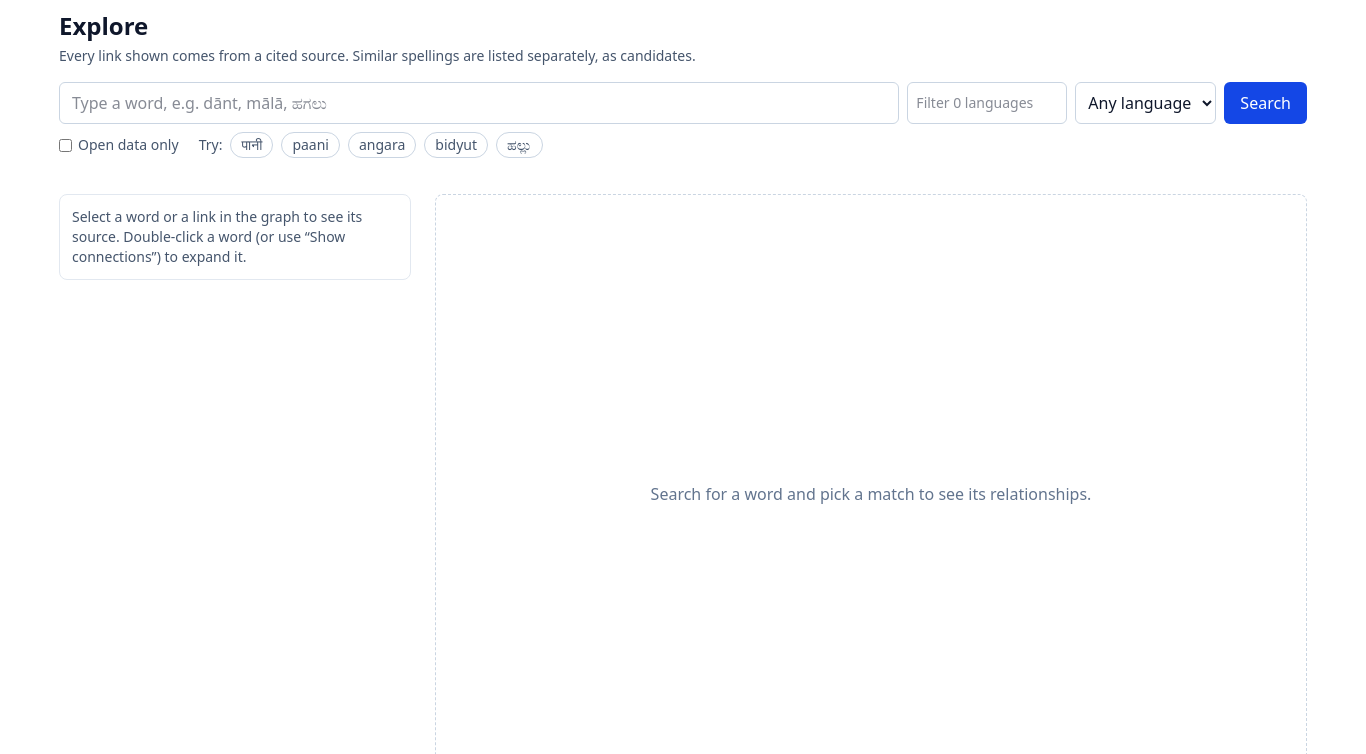
Test: ExplorePage follows the URL and drops stale data › clears the old graph and details as soon as a new search starts
In the field labelled "word": (479, 103) [59,82,899,124], type "dānt"
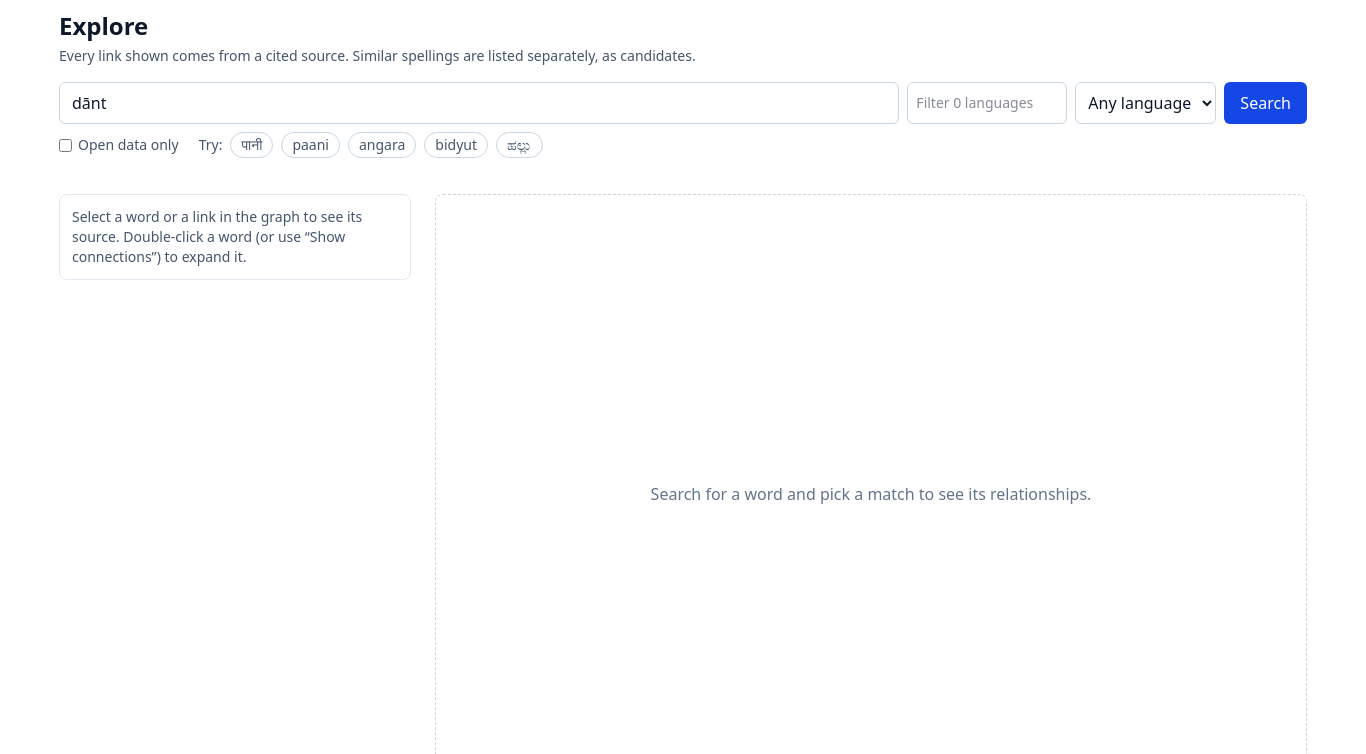
Click the button "Search": (1266, 103) [1224,82,1307,124]
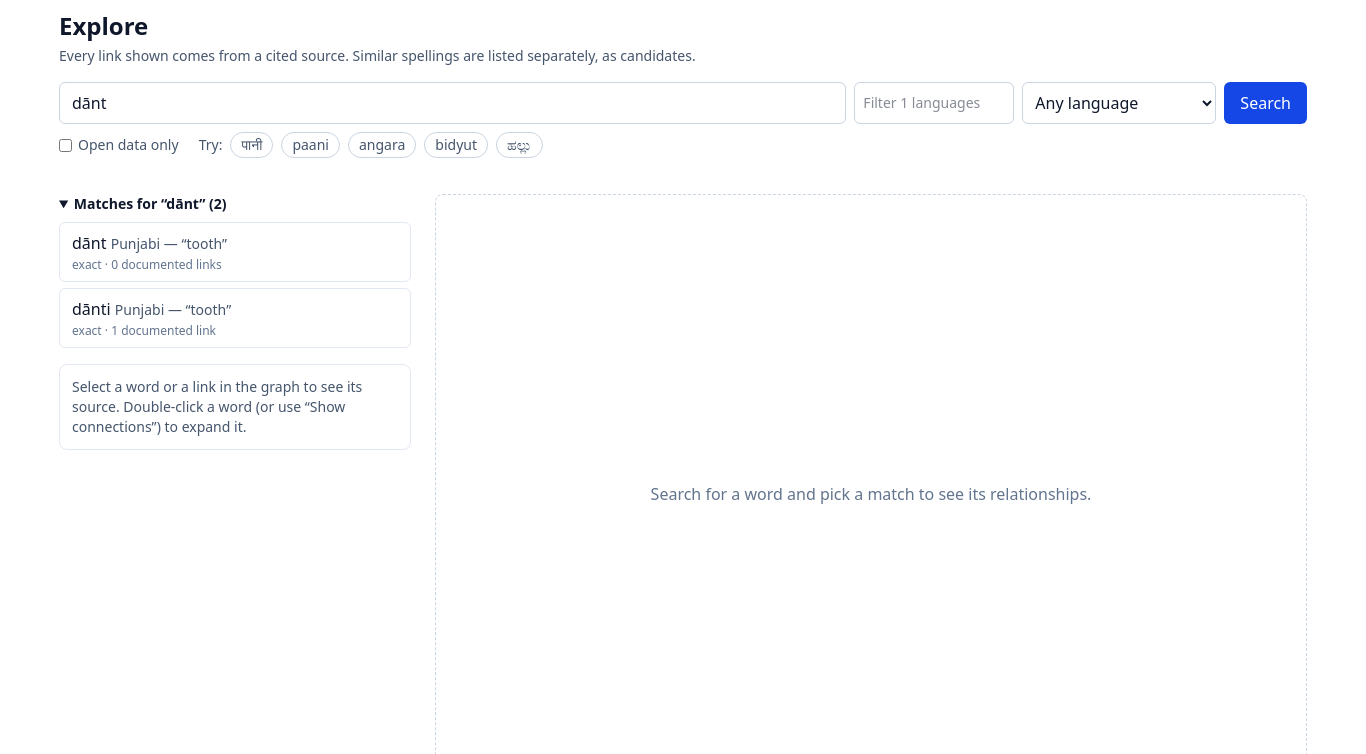
Click the button "dānti Punjabi — “tooth” exact · 1 documented link": (91, 309) [59,288,411,348]
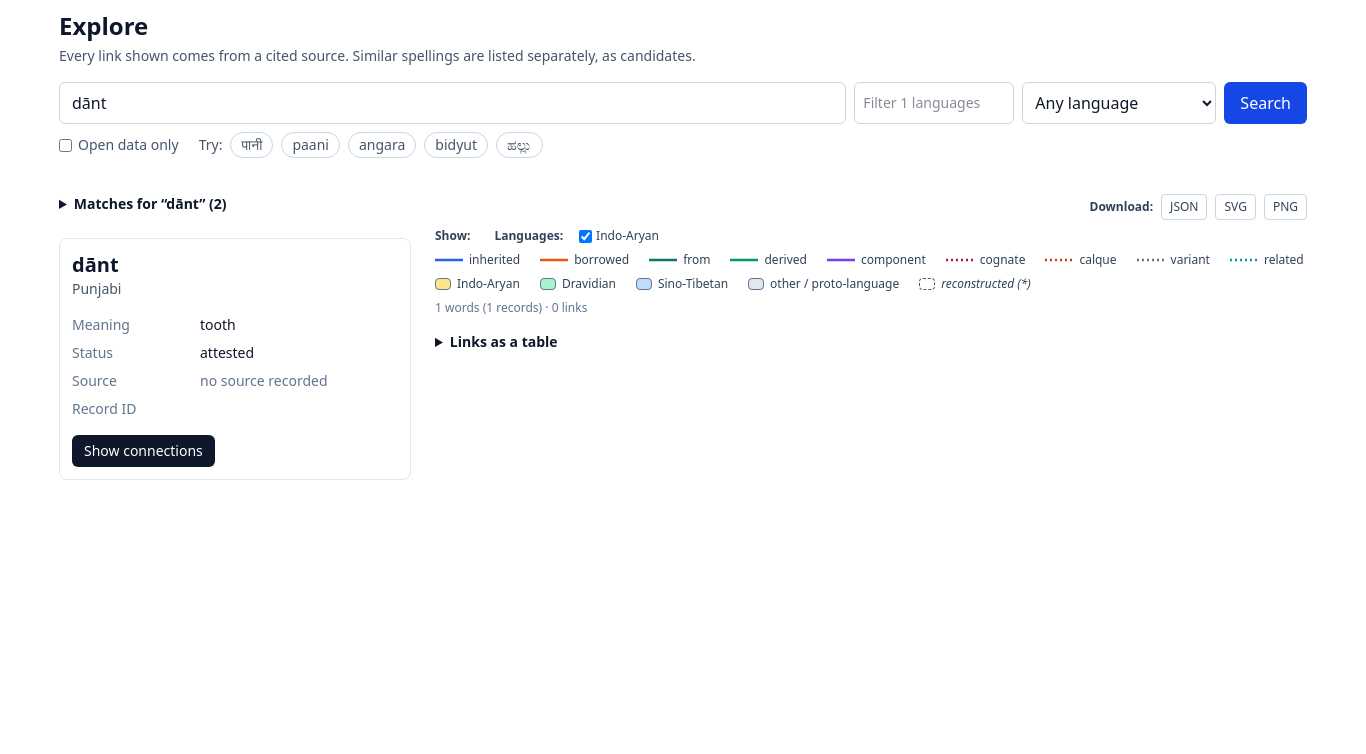
Expected: the text "1 words (1 records) · 0 links" is shown, [435,300,587,316]
Expected: the text "no source recorded" is shown, [200,371,328,390]
Replace the text in the field named "word" with "other": (453, 103) [59,82,846,124]
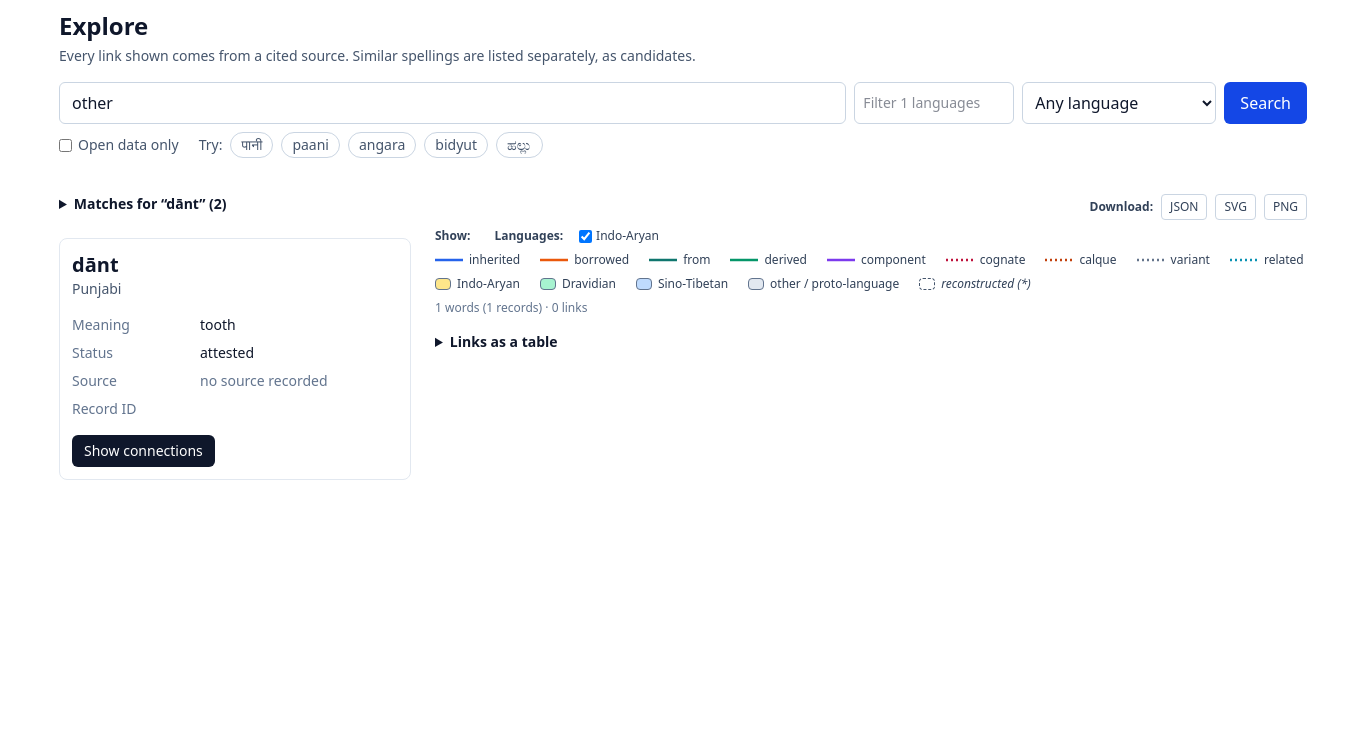
Click the button "Search": (1266, 103) [1224,82,1307,124]
(page scrolled)
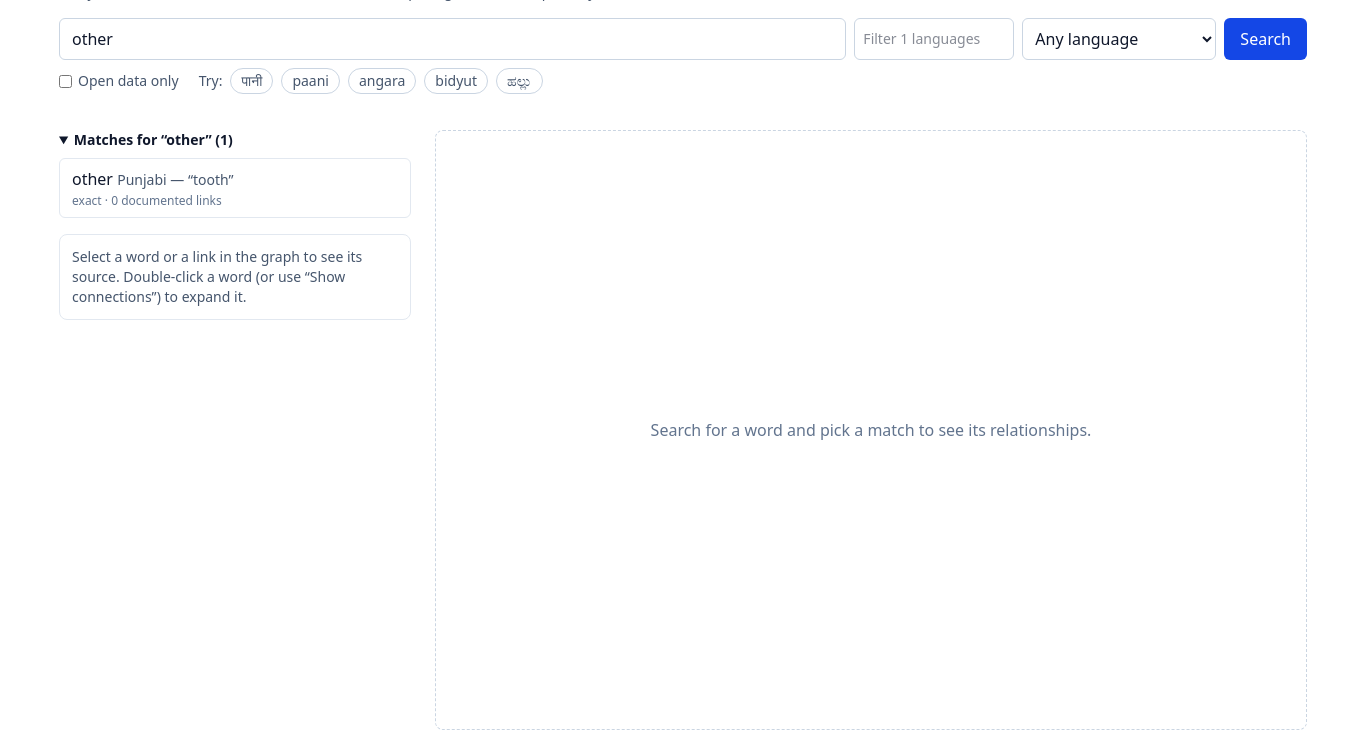
Expected: the text "no source recorded" is gone
Expected: the heading "Matches for “other” (1)" is shown, [74,130,233,149]
Expected: the text "Search for a word and pick a match to see its relationships." is shown, [435,130,1307,730]
